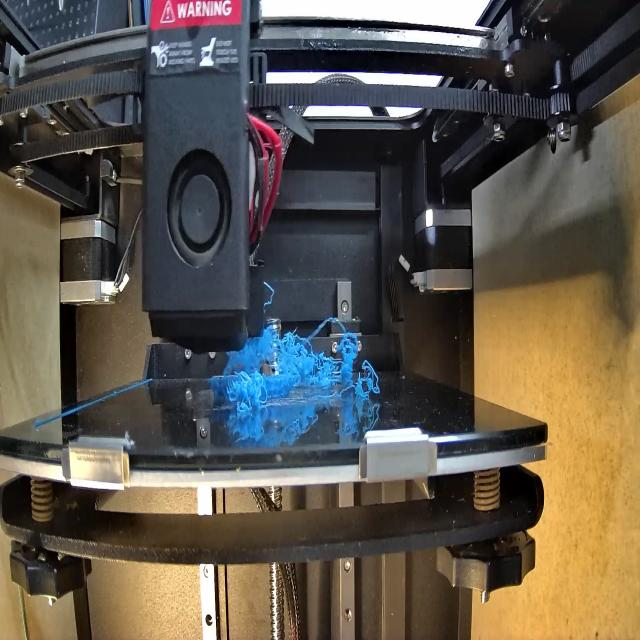spaghetti: (270, 334, 379, 400), (230, 331, 276, 376), (227, 373, 271, 417)
